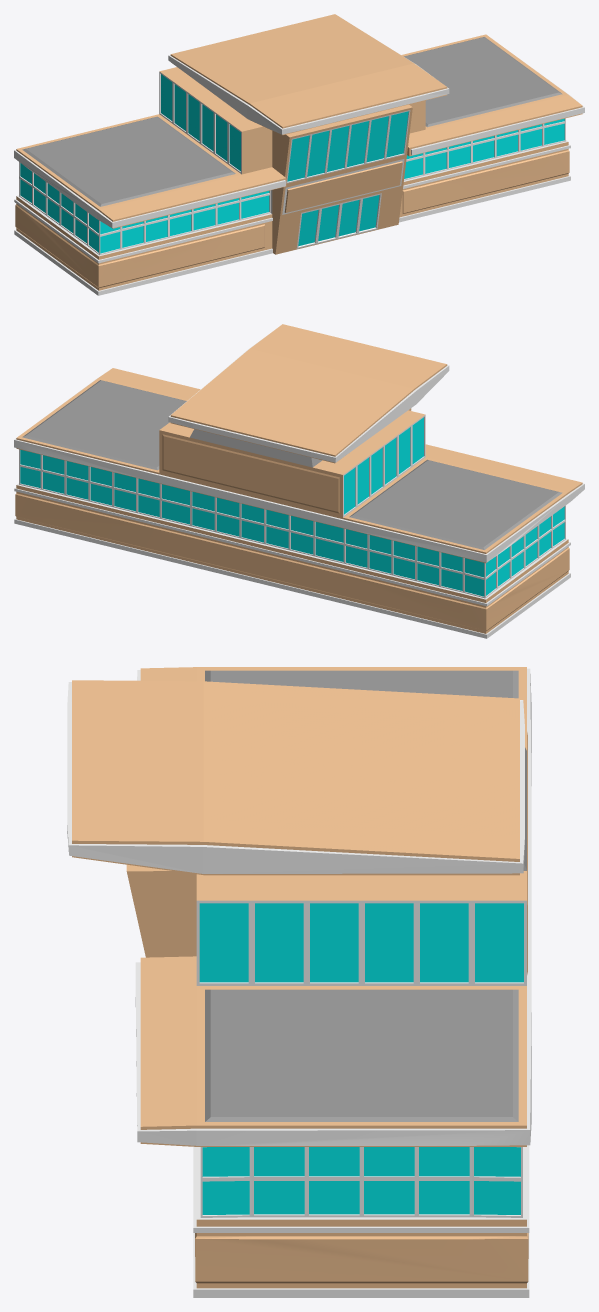
The model's file is SM_Supermarket_01.FBX.
3 views of the same model, one above another, from view 1: azimuth 30°, elevation 25°; view 2: azimuth 150°, elevation 25°; view 3: azimuth 270°, elevation 25° (orthographic). The views are drawn at different scales.
Visible parts, largest first — view 1: SM_Supermarket_01; view 2: SM_Supermarket_01; view 3: SM_Supermarket_01.
Part boxes in pixels (x1,y1,x2,y2): SM_Supermarket_01: [14, 14, 584, 295]; SM_Supermarket_01: [14, 324, 584, 638]; SM_Supermarket_01: [67, 667, 531, 1297].
Bounding box in the file's own units: 23.2 × 7.18 × 9.85.
1 material, 1 textured.
